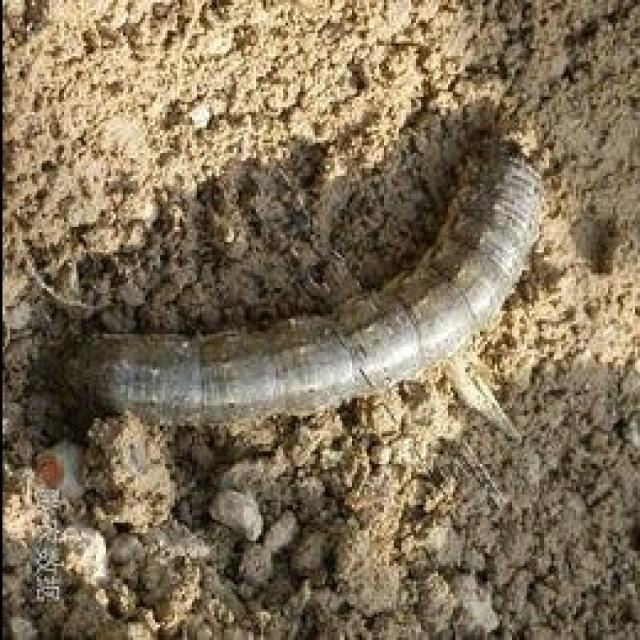black cutworm: (65, 120, 557, 449)
